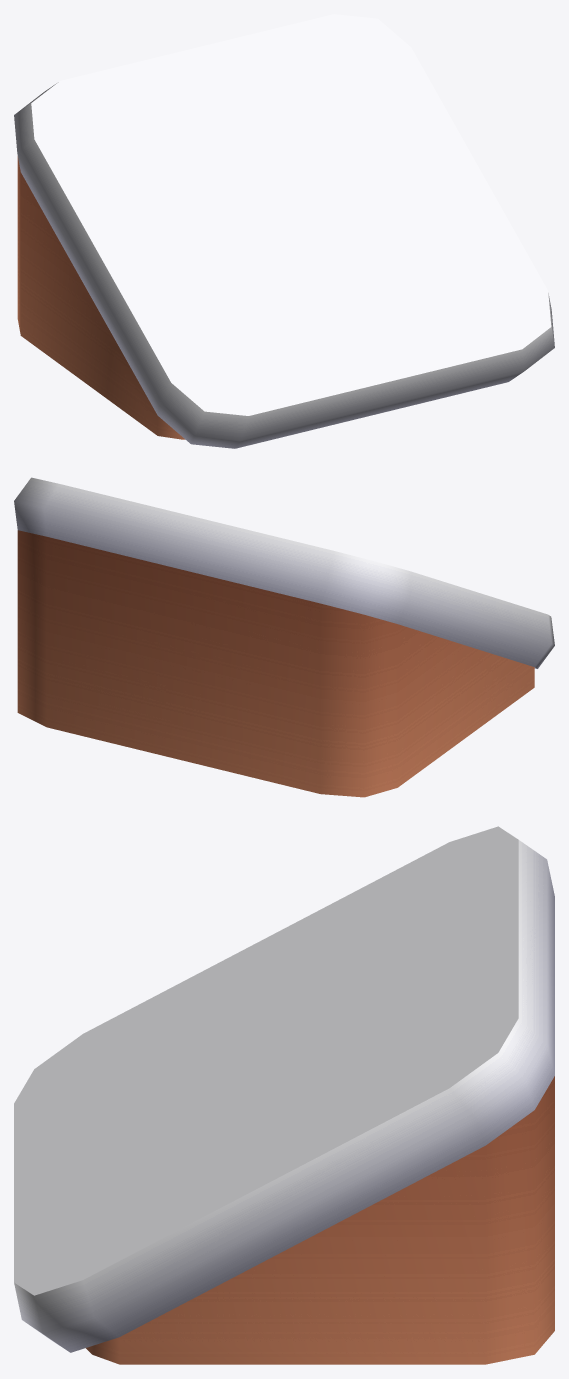
The model's file is block-snow-large-slope-steep.glb.
The picture shows the model from 3 angles, top to bottom: view 1: azimuth 30°, elevation 25°; view 2: azimuth 150°, elevation 25°; view 3: azimuth 270°, elevation 25°; orthographic projection. The views are drawn at different scales.
Visible parts, largest first — view 1: block-snow-large-slope-steep; view 2: block-snow-large-slope-steep; view 3: block-snow-large-slope-steep.
Boxes of the visible parts, x1,y1,x2,y2 form: block-snow-large-slope-steep: (14,14,554,448); block-snow-large-slope-steep: (14,477,554,797); block-snow-large-slope-steep: (14,826,554,1364).
Size of the model in its own units: 2.08 by 1.22 by 1.86.
Materials: 1 (1 with a texture image).
